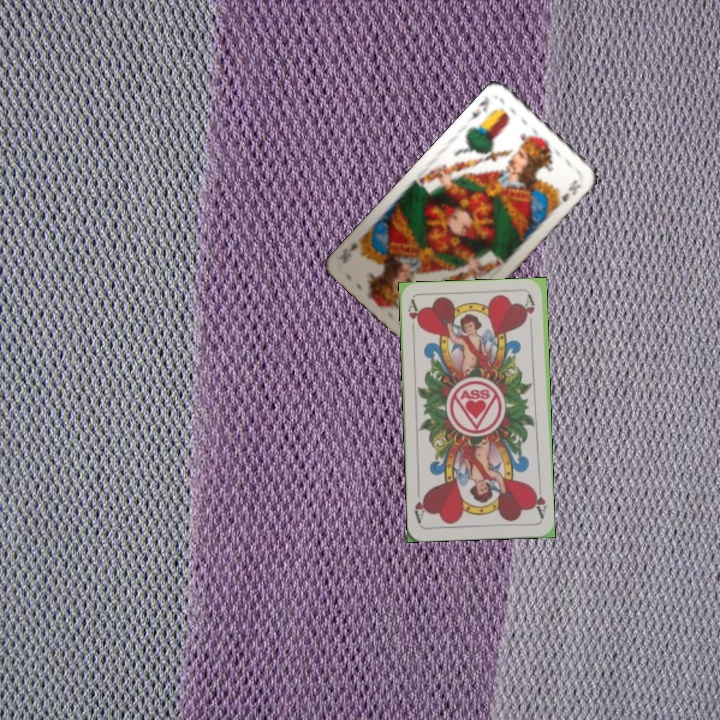EK: (465, 95, 492, 124)
HA: (529, 481, 549, 521), (404, 297, 423, 337)
